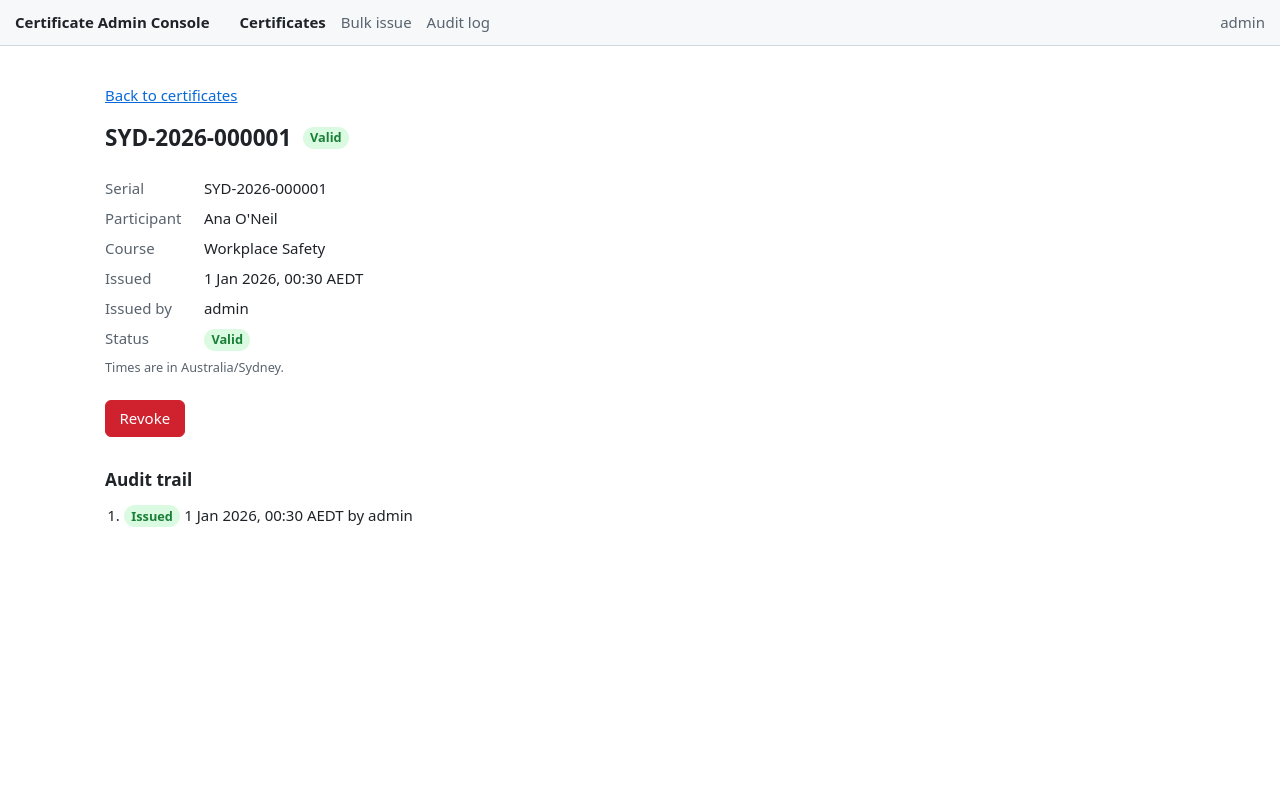
Test case: CertificateDetailPage › shows no error when the certificate was already revoked elsewhere
Click the button "Revoke": [145, 418] box [105,400,185,436]
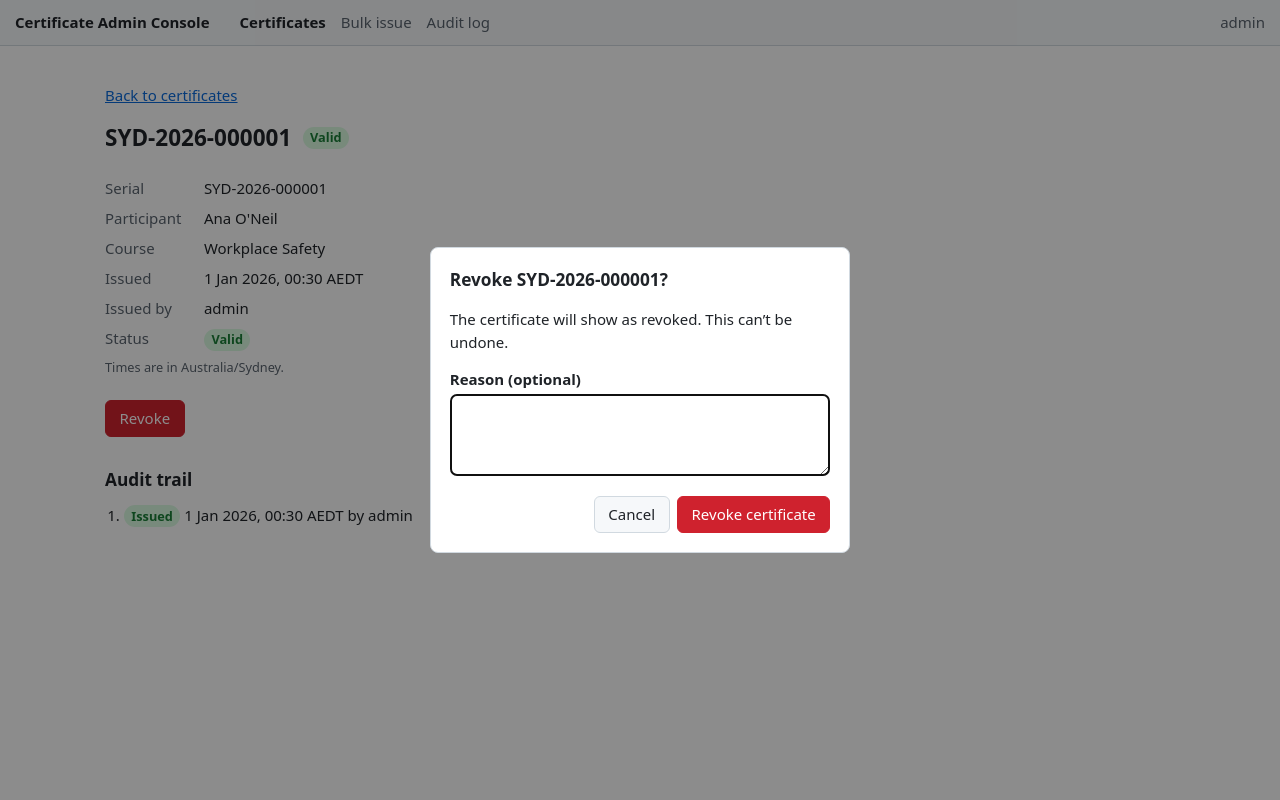
Click the button "Revoke certificate": [754, 515] box [677,496,830,533]
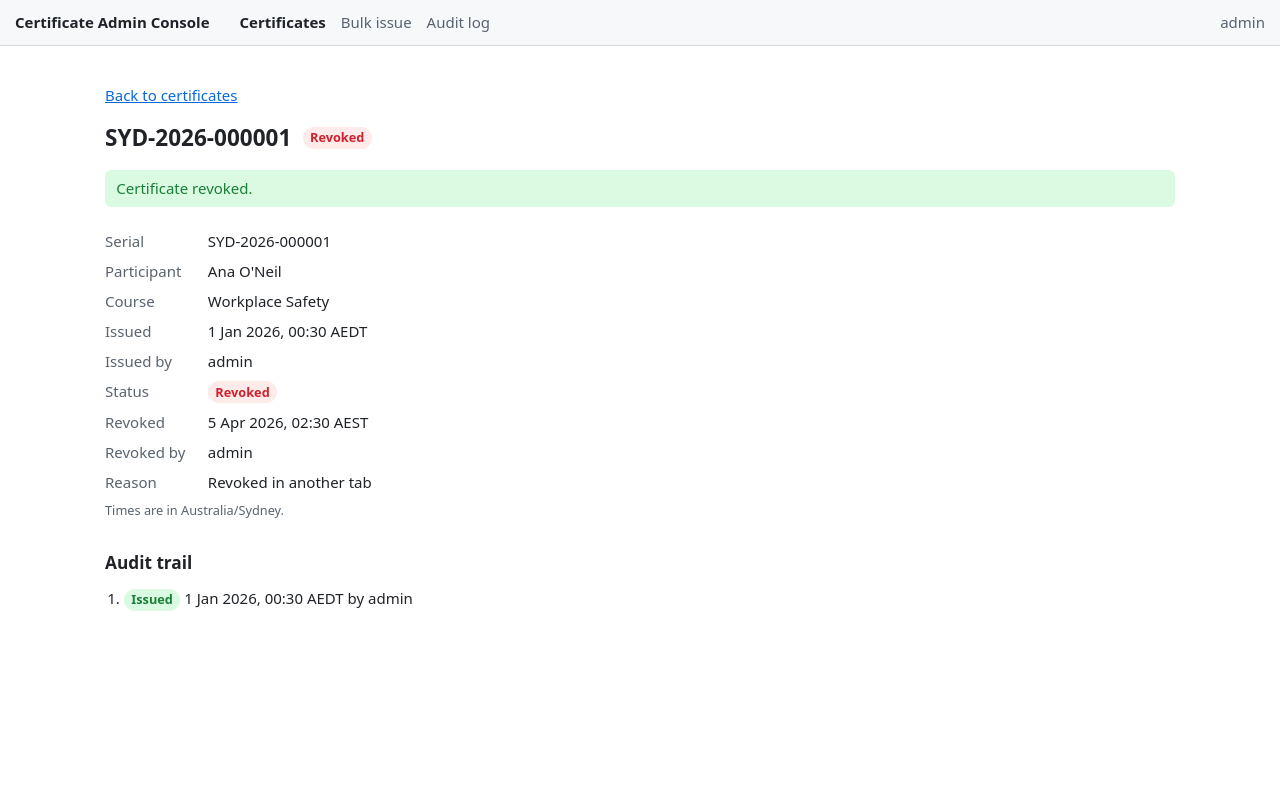
Expected: the text "Certificate revoked." is shown, [105,170,1175,207]
Expected: the text "Revoked in another tab" is shown, [208,472,372,492]
